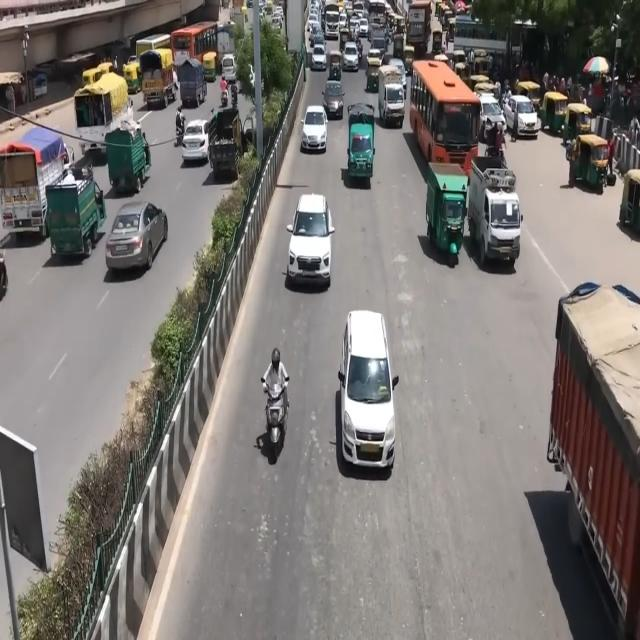auto: (423, 160, 469, 262), (106, 119, 152, 195), (569, 131, 610, 192), (618, 168, 640, 239), (561, 100, 593, 147), (540, 89, 569, 135), (82, 62, 115, 90), (123, 59, 142, 94), (469, 73, 495, 98), (365, 56, 382, 93), (202, 51, 218, 83), (452, 48, 468, 76), (328, 50, 342, 81), (403, 44, 415, 75)
bike-auto: (262, 349, 290, 434), (175, 108, 185, 146), (220, 76, 228, 105)
